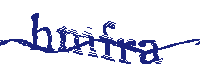a: (139, 40, 163, 67)
f: (99, 19, 117, 62)
h: (29, 11, 52, 54)
m: (57, 25, 98, 57)
r: (118, 36, 136, 66)
